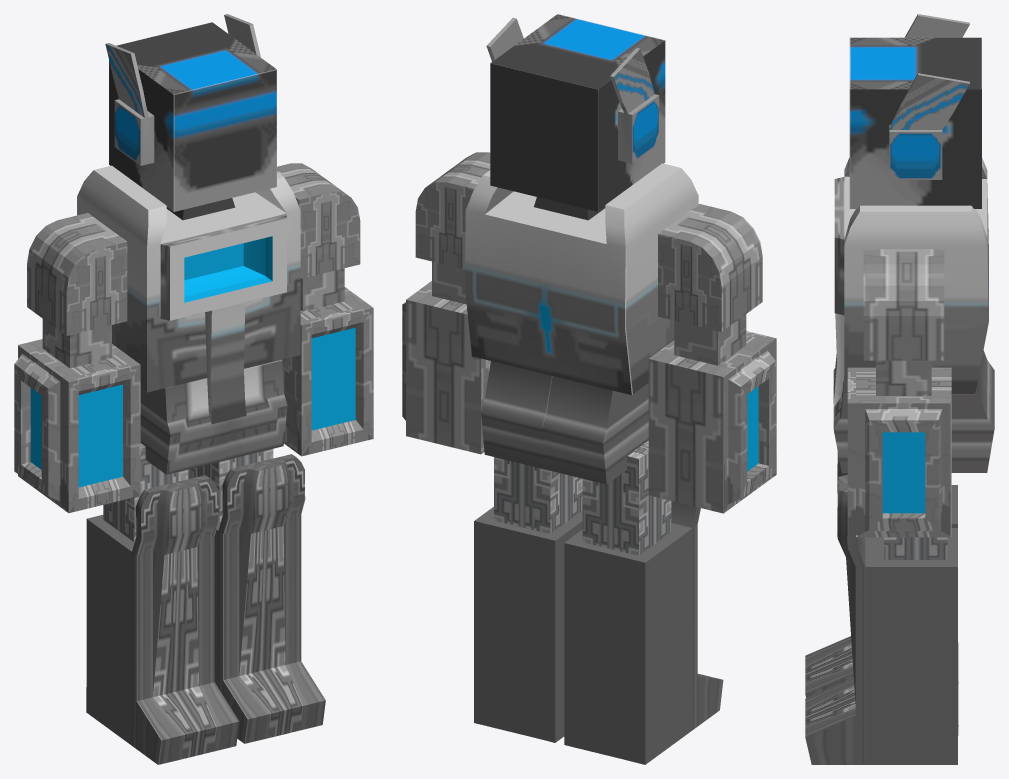
The model's file is Character design.fbx.
3 views of the same model, side by side, from view 1: azimuth 30°, elevation 25°; view 2: azimuth 150°, elevation 25°; view 3: azimuth 270°, elevation 25° (orthographic). The views are drawn at different scales.
Parts seen in each view (by area): view 1: Chest_New, foot2, polySurface1, Head, foot1, polySurface2, Leg_joint_1, Leg_joint_2; view 2: Chest_New, polySurface1, Head, foot2, foot1, polySurface2, Leg_joint_1, Leg_joint_2; view 3: foot1, polySurface2, Head, Chest_New, foot2, Leg_joint_2.
Boxes of the visible parts, box(x1,y1,x2,y2) form: Chest_New: box(77, 165, 300, 474); foot2: box(86, 475, 239, 764); polySurface1: box(14, 213, 140, 512); Head: box(105, 14, 276, 220); foot1: box(214, 454, 325, 743); polySurface2: box(277, 163, 373, 456); Leg_joint_1: box(103, 443, 188, 542); Leg_joint_2: box(188, 449, 273, 521); Chest_New: box(465, 163, 698, 484); polySurface1: box(648, 204, 776, 513); Head: box(486, 14, 665, 220); foot2: box(564, 501, 723, 764); foot1: box(474, 507, 582, 742); polySurface2: box(402, 152, 490, 454); Leg_joint_1: box(582, 440, 671, 555); Leg_joint_2: box(494, 457, 582, 533); foot1: box(805, 474, 958, 764); polySurface2: box(847, 249, 951, 537); Head: box(849, 14, 981, 208); Chest_New: box(833, 157, 994, 472); foot2: box(805, 452, 958, 697); Leg_joint_2: box(884, 537, 947, 559).
Size of the model in its own units: 2.9 by 5.69 by 1.43.
